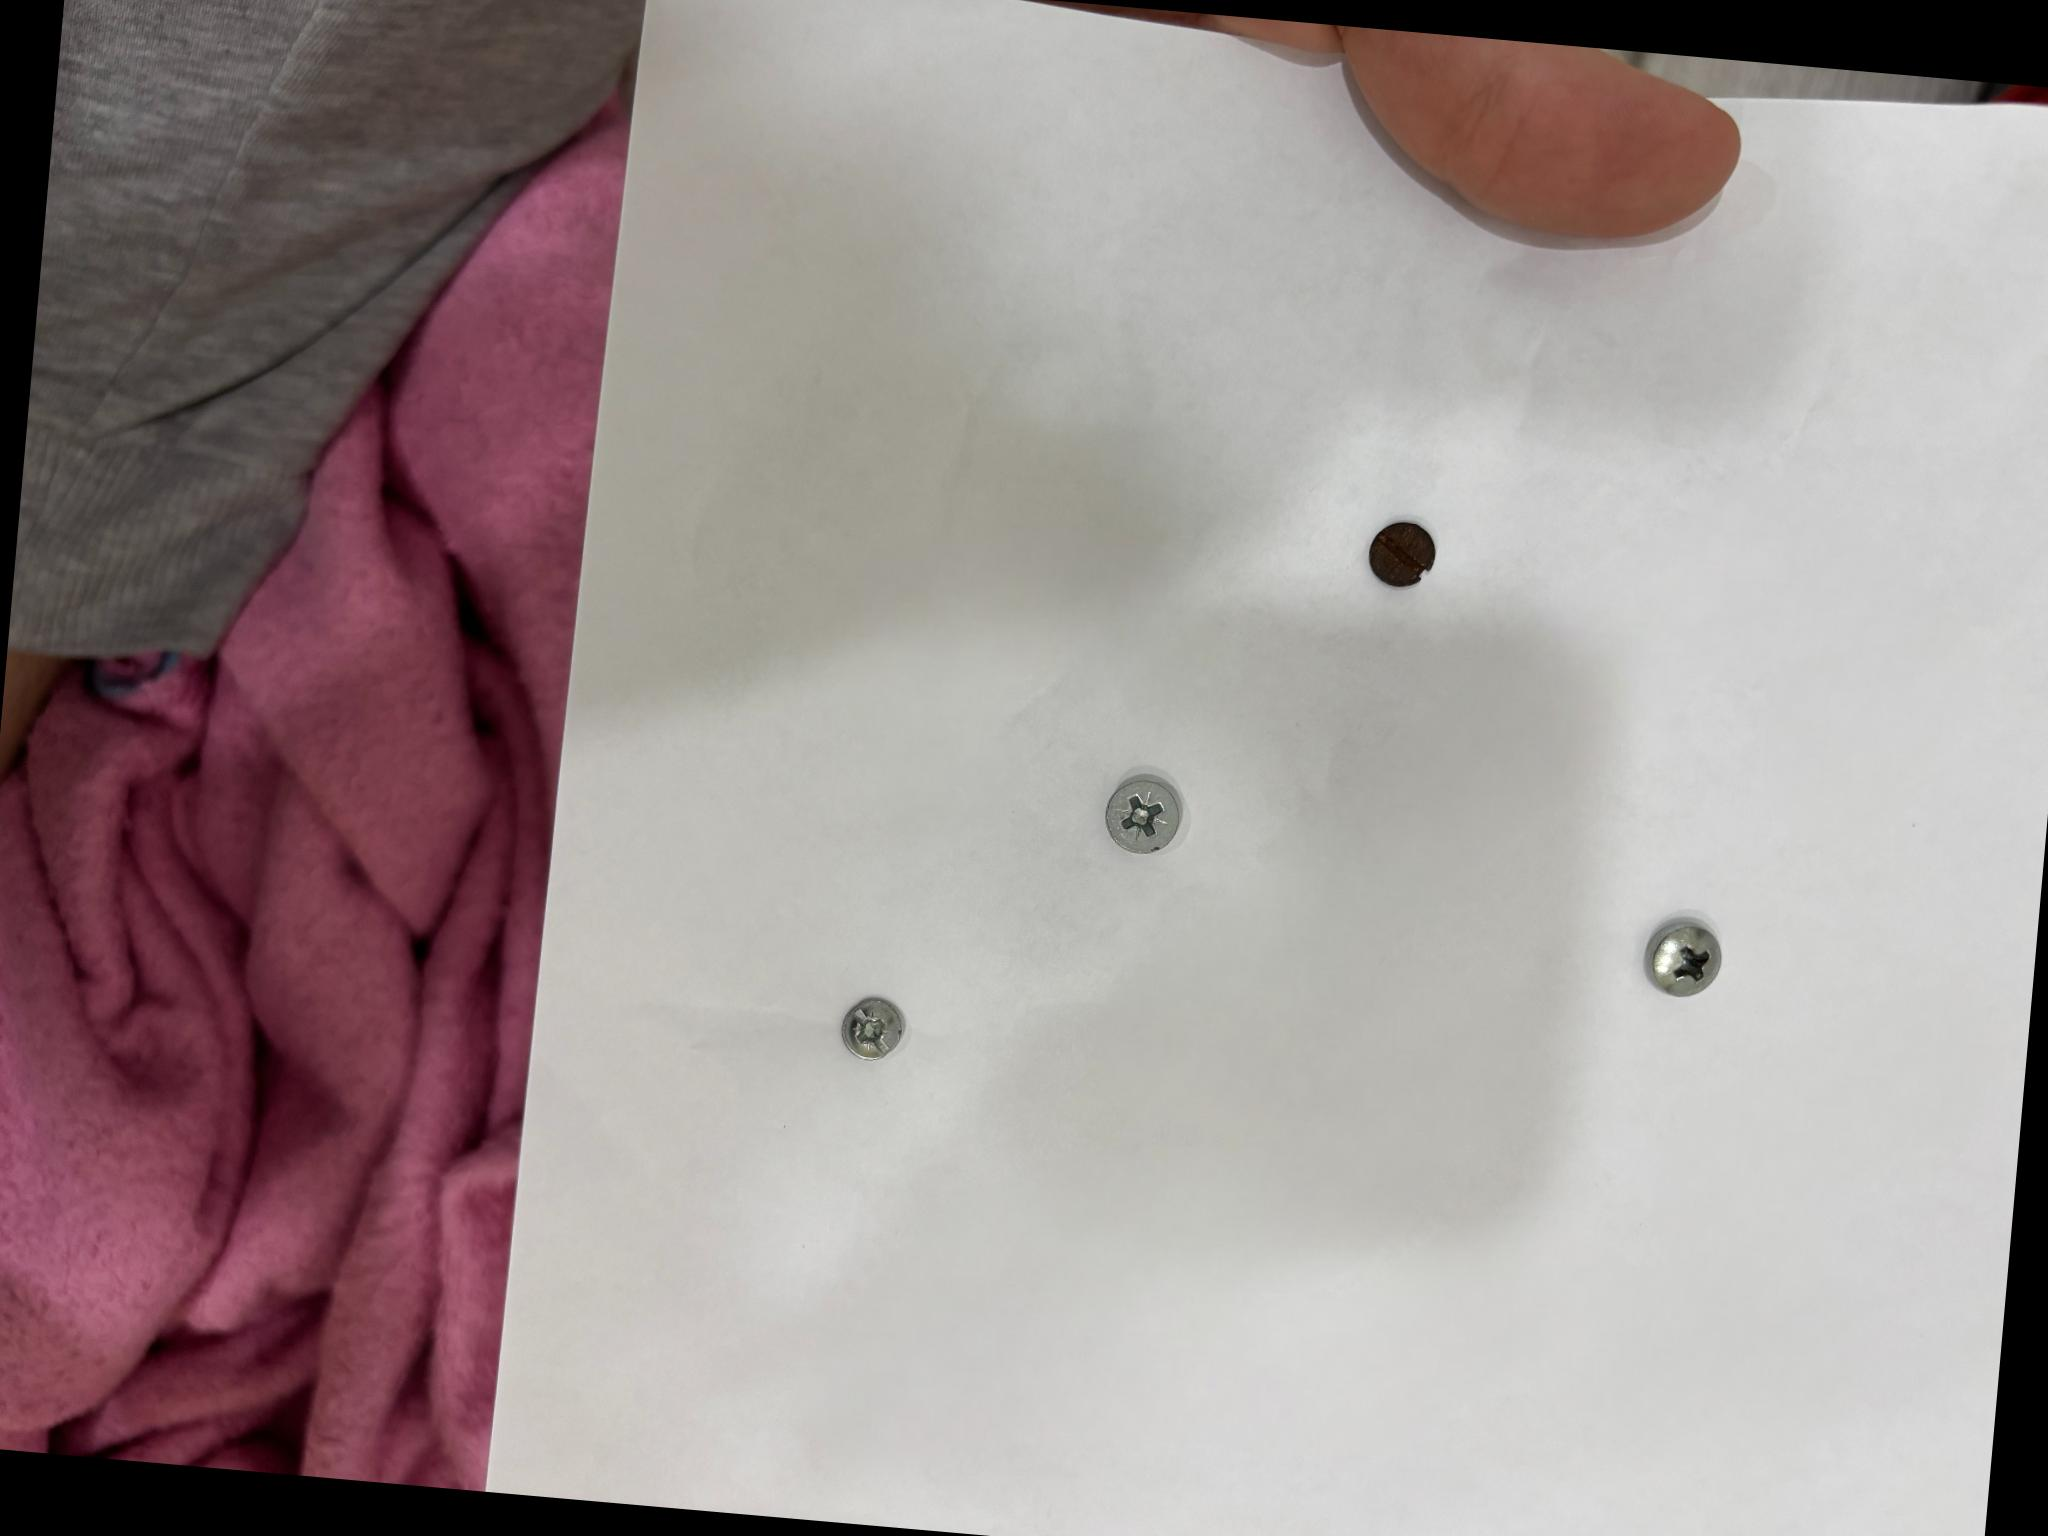PH: (1645, 921, 1721, 995)
PZ: (1105, 776, 1182, 852), (840, 997, 903, 1058)
SL: (1367, 521, 1435, 587)
